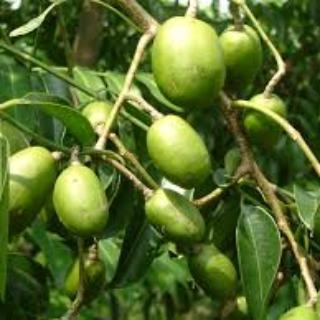coc: (151, 15, 226, 108), (146, 113, 209, 186), (53, 161, 109, 238), (144, 188, 204, 244)
